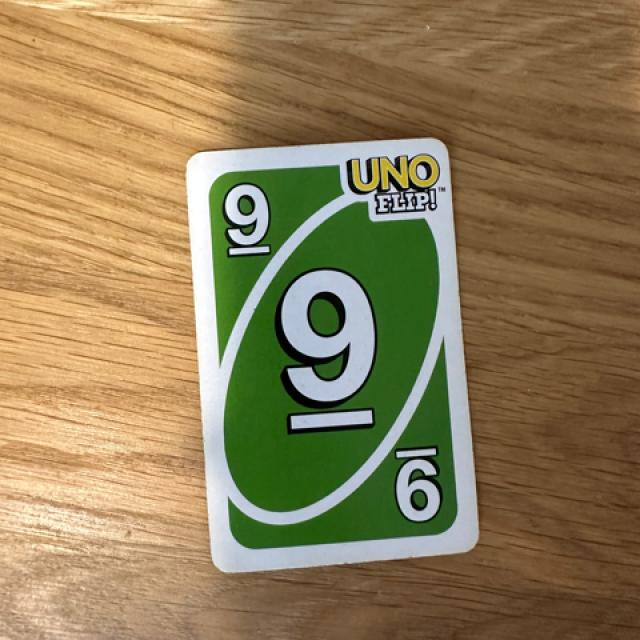lgreen-9: (198, 166, 294, 274)
